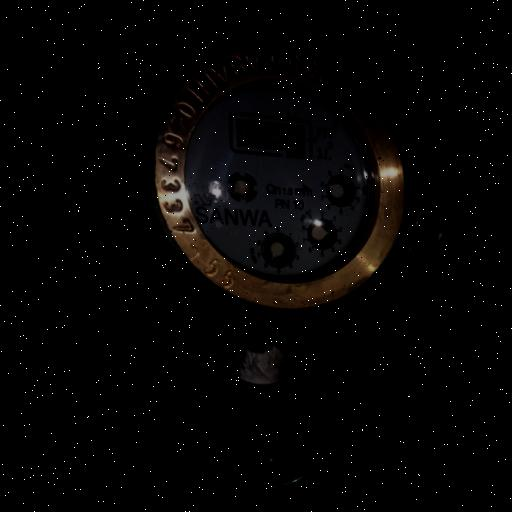1: (234, 119, 254, 147)
3: (251, 119, 270, 148)
4: (285, 124, 306, 159)
8: (268, 122, 288, 151)
border_water_meter_number: (225, 110, 321, 162)
